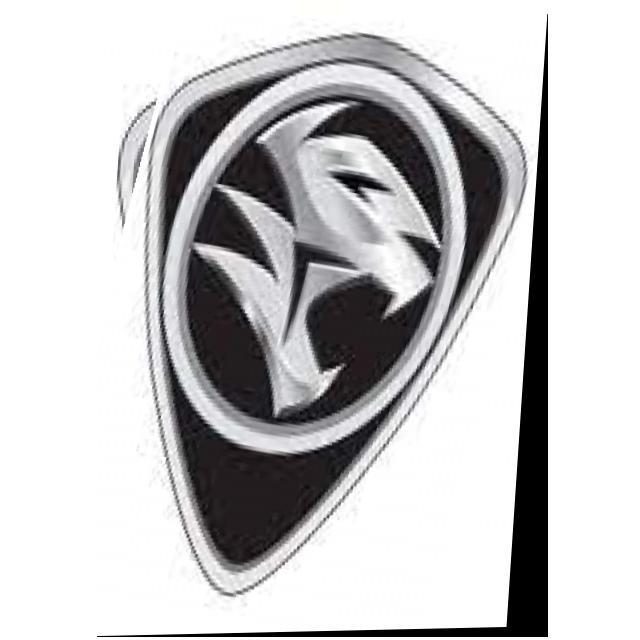Proton: (97, 14, 548, 637)
